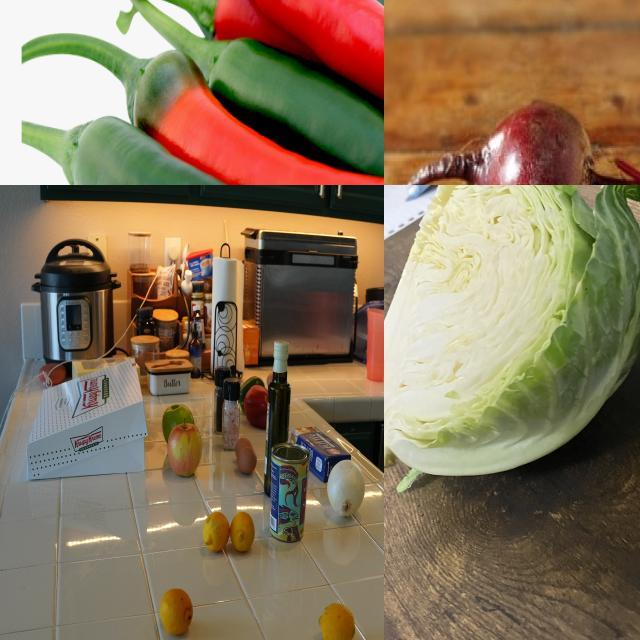beet: (471, 98, 601, 186)
bell_pepper: (215, 367, 231, 436), (246, 385, 272, 427), (243, 378, 265, 408)
cabbage: (385, 186, 640, 496)
egg: (237, 449, 259, 477), (234, 440, 254, 465)
onion: (329, 460, 367, 520)
